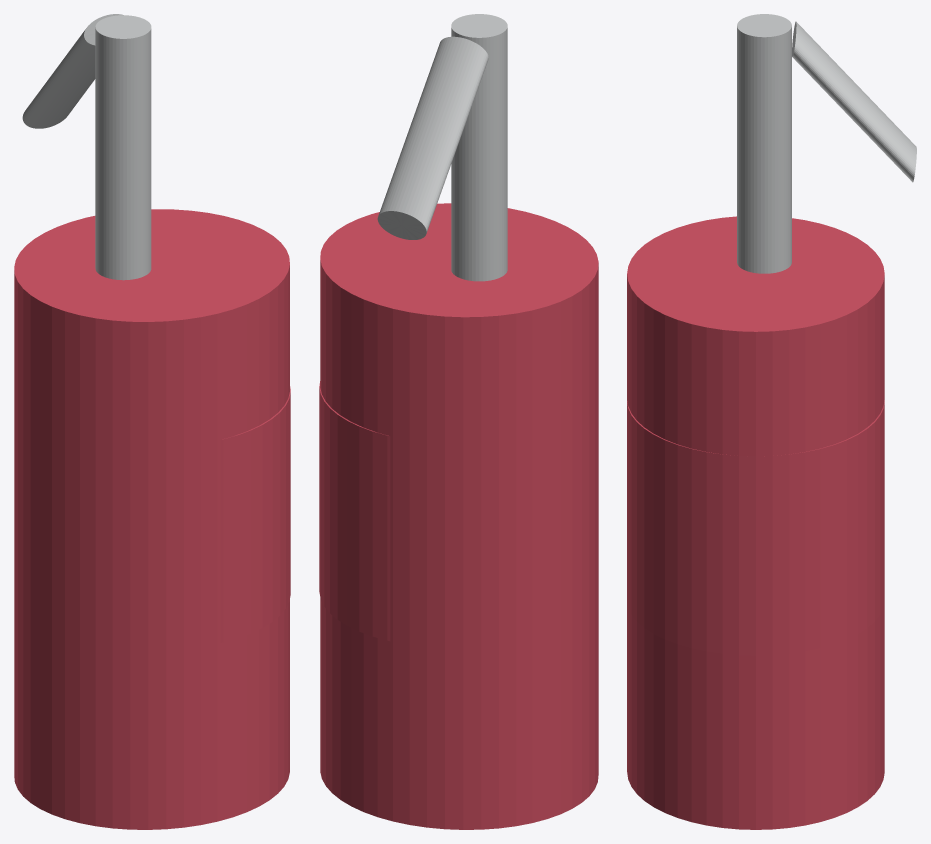
3 renders of one model, left to right at view 1: azimuth 30°, elevation 25°; view 2: azimuth 150°, elevation 25°; view 3: azimuth 270°, elevation 25°, orthographic. The views are drawn at different scales.
Parts seen in each view (by area): view 1: Mesh_Mesh_head_geo.001_lambert2SG.001; view 2: Mesh_Mesh_head_geo.001_lambert2SG.001; view 3: Mesh_Mesh_head_geo.001_lambert2SG.001.
Boxes of the visible parts, <box> form: Mesh_Mesh_head_geo.001_lambert2SG.001: <box>14,14,290,829</box>; Mesh_Mesh_head_geo.001_lambert2SG.001: <box>319,14,598,829</box>; Mesh_Mesh_head_geo.001_lambert2SG.001: <box>627,14,916,829</box>.
Size of the model in its own units: 0.01 by 0.0295 by 0.0105.
